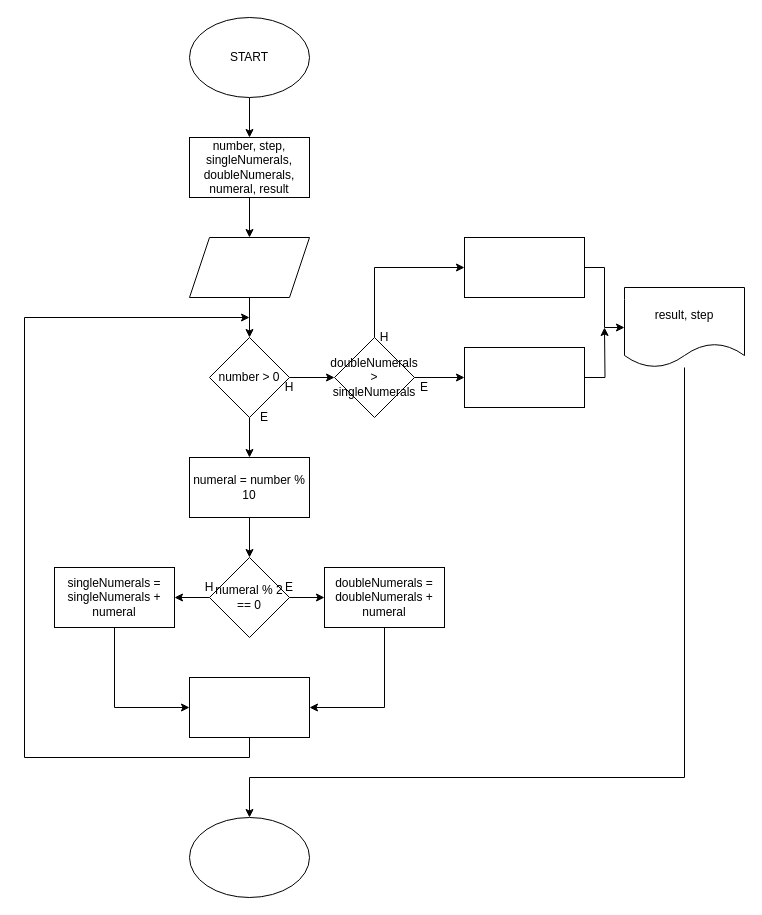
Some shapes in this 762 by 915 pixel diagram are drawn without their labels. The shapes that lost their labels are listed below. From the top down, each one's centre as x and y in pixels, then its label:
(249,267): number
(524,267): result = singleNumerals - doubleNumerals
(524,377): result = doubleNumerals - singleNumerals
(249,707): number = number / 10 step = step + 1
(249,857): STOP
